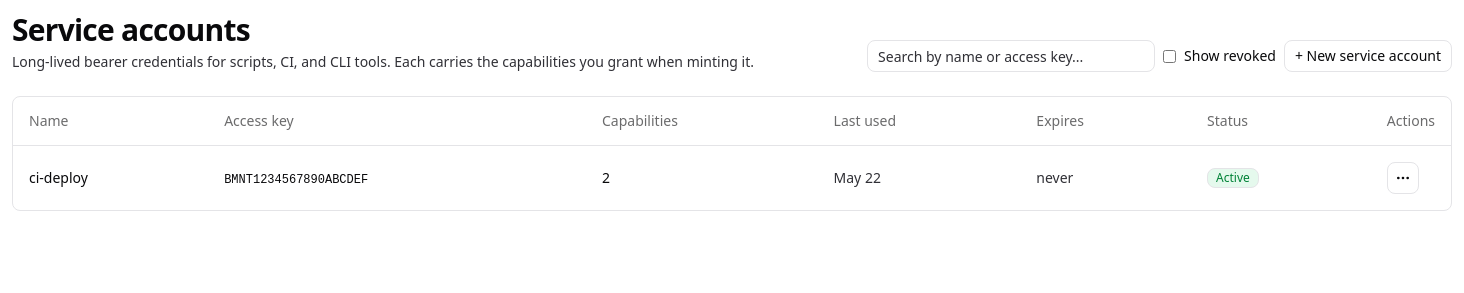
ServiceAccountsPage › hides revoked SAs by default and shows them when toggle is checked
expect the row with test id "sa-row-sa-1" is shown: met, box [13, 145, 1451, 210]
Click the checkbox with test id "show-revoked-toggle". click: (1170, 56)
box: [1163, 50, 1176, 62]
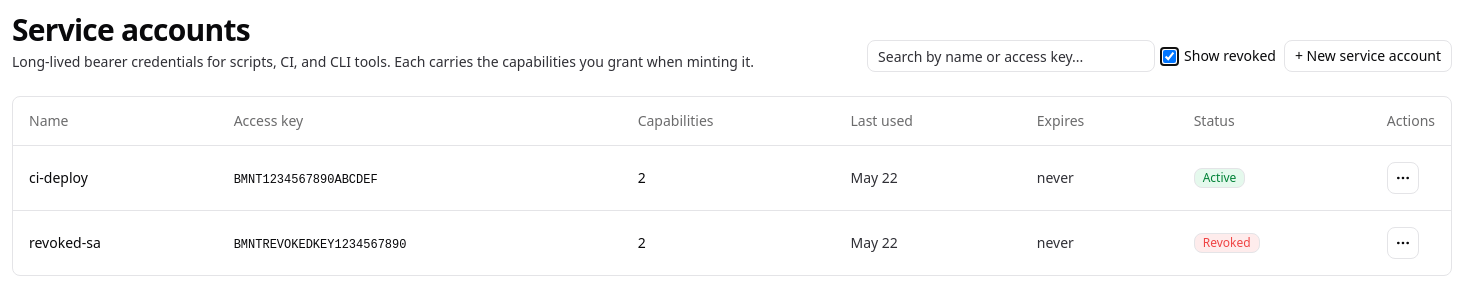
expect the row with test id "sa-row-sa-1" is shown: met, box [13, 145, 1451, 210]
expect the row with test id "sa-row-sa-revoked" is shown: met, box [13, 210, 1451, 274]
